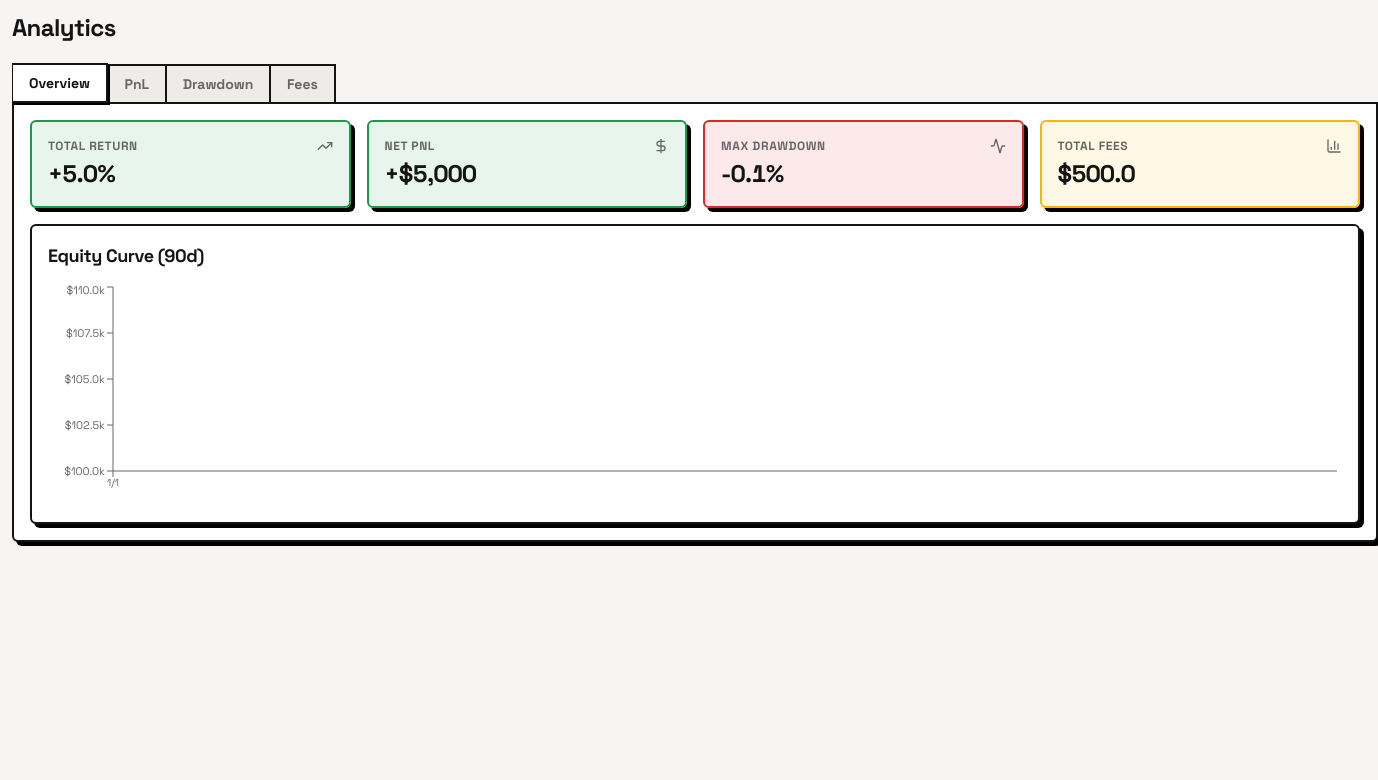
Test: AnalyticsPage › PnL Tab › renders PnL tab content when clicked
The width and height of the screenshot is (1378, 780).
Click the button "PnL": (137, 84) [106,64,167,104]
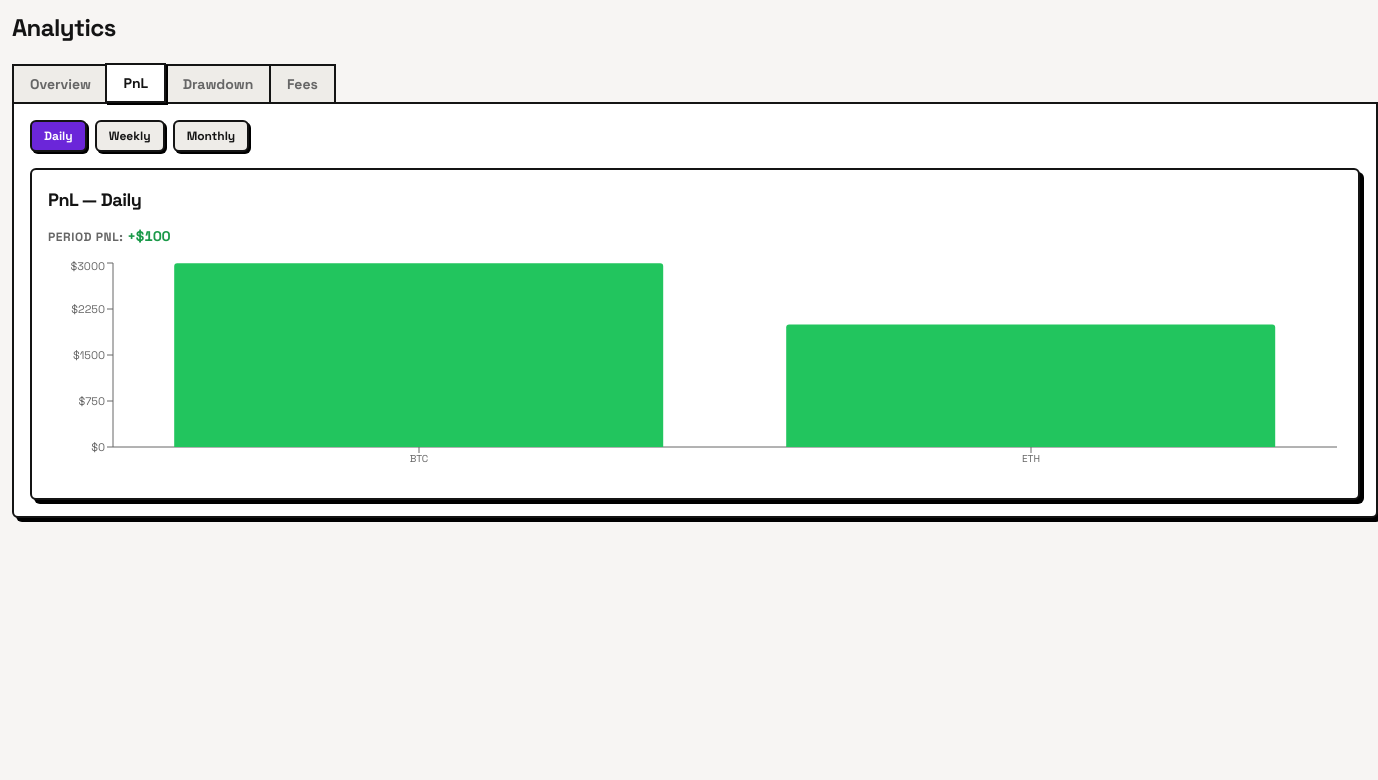
Result: the heading "PnL — Daily" is shown at [48,188,142,210]
